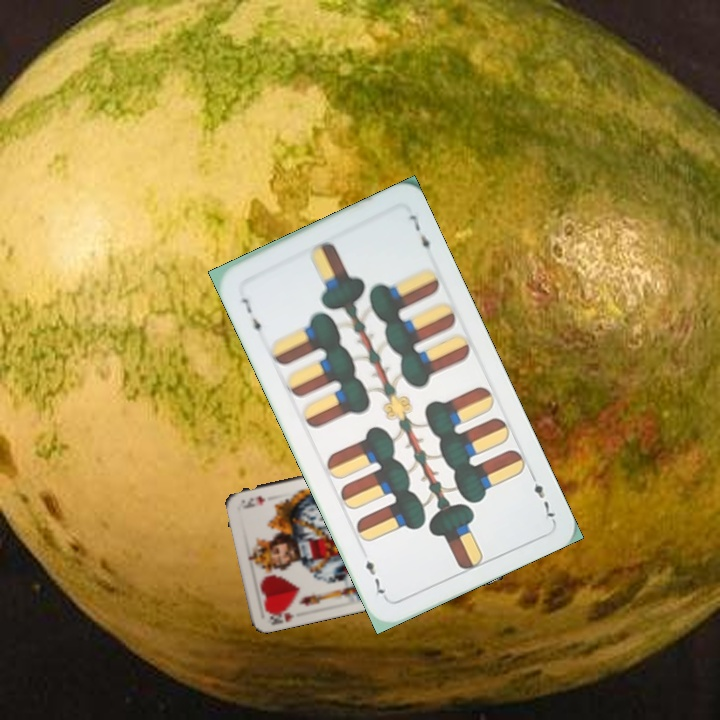E7: (526, 468, 557, 523), (237, 292, 264, 340)
HK: (263, 602, 296, 627)
